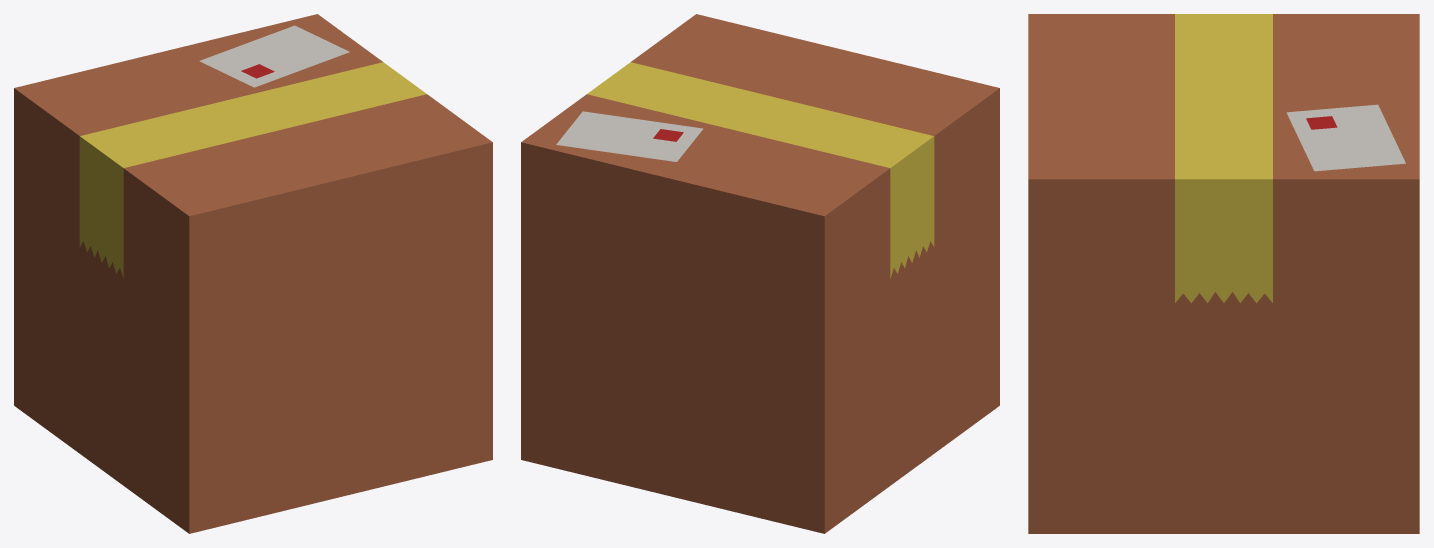
Rendered from Boite.fbx.
The picture shows the model from 3 angles, left to right: view 1: azimuth 30°, elevation 25°; view 2: azimuth 150°, elevation 25°; view 3: azimuth 270°, elevation 25°; orthographic projection. The views are drawn at different scales.
Parts seen in each view (by area): view 1: Boite; view 2: Boite; view 3: Boite.
Boxes of the visible parts, left/top/right/bottom form: Boite: left=14, top=14, right=492, bottom=533; Boite: left=521, top=14, right=999, bottom=533; Boite: left=1028, top=14, right=1419, bottom=533.
Bounding box in the file's own units: 40 × 40 × 40.
